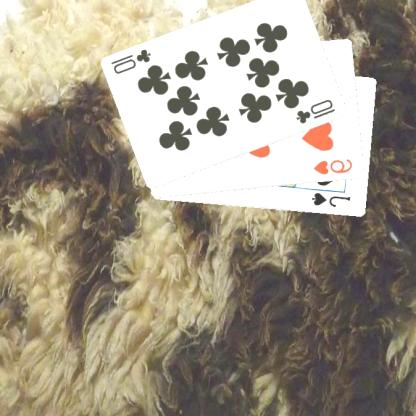10C: (110, 46, 155, 76), (295, 96, 339, 126)
6H: (313, 156, 356, 177)
JS: (310, 190, 354, 209)
